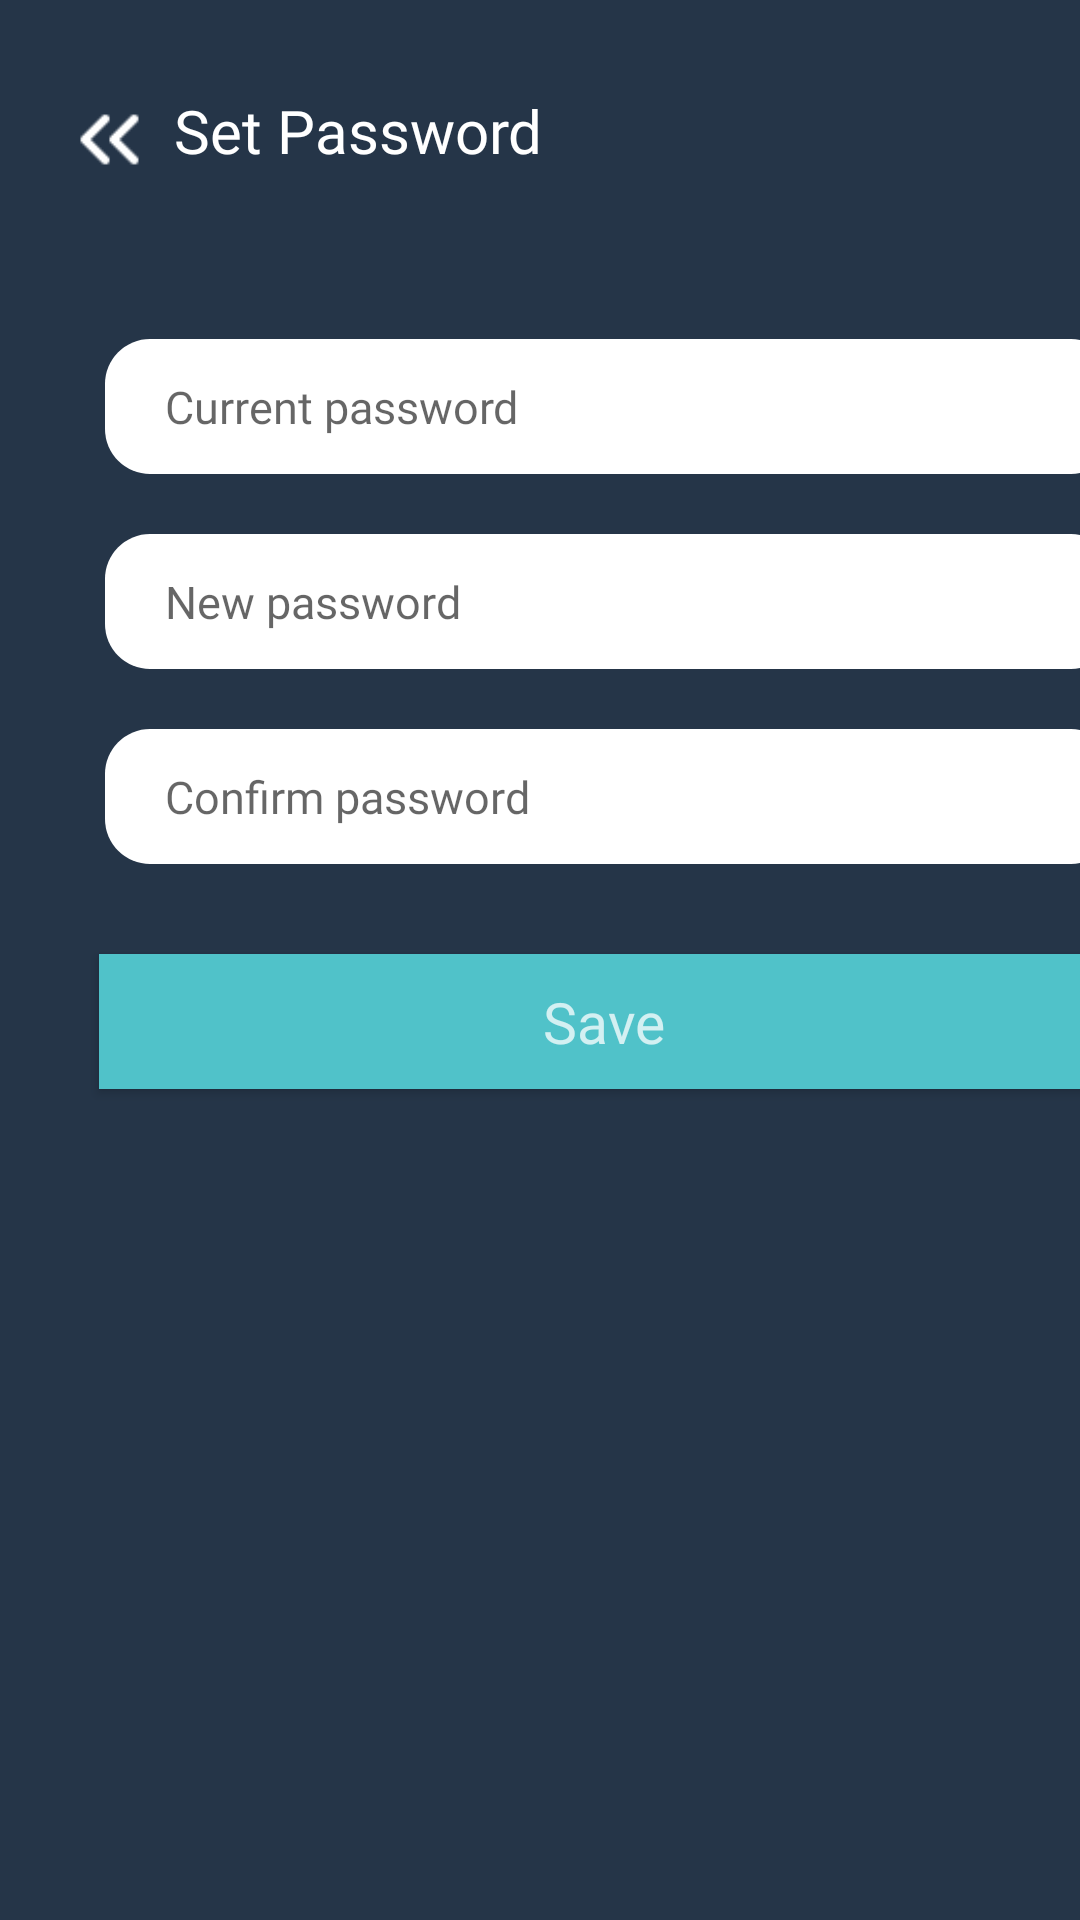

Named icons in this screenshot (1080w x 1920h) and their bounding boxes, box(x1, y1, x2, y2):
back: box(80, 114, 139, 165)
